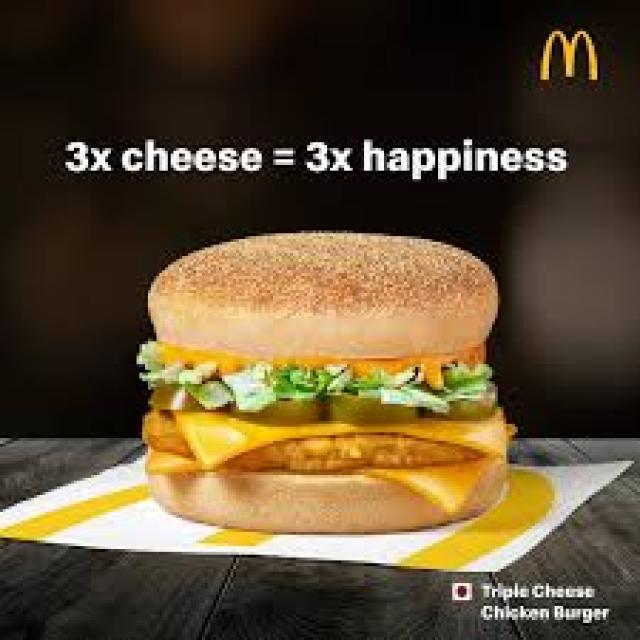햄버거: (137, 233, 515, 540)
